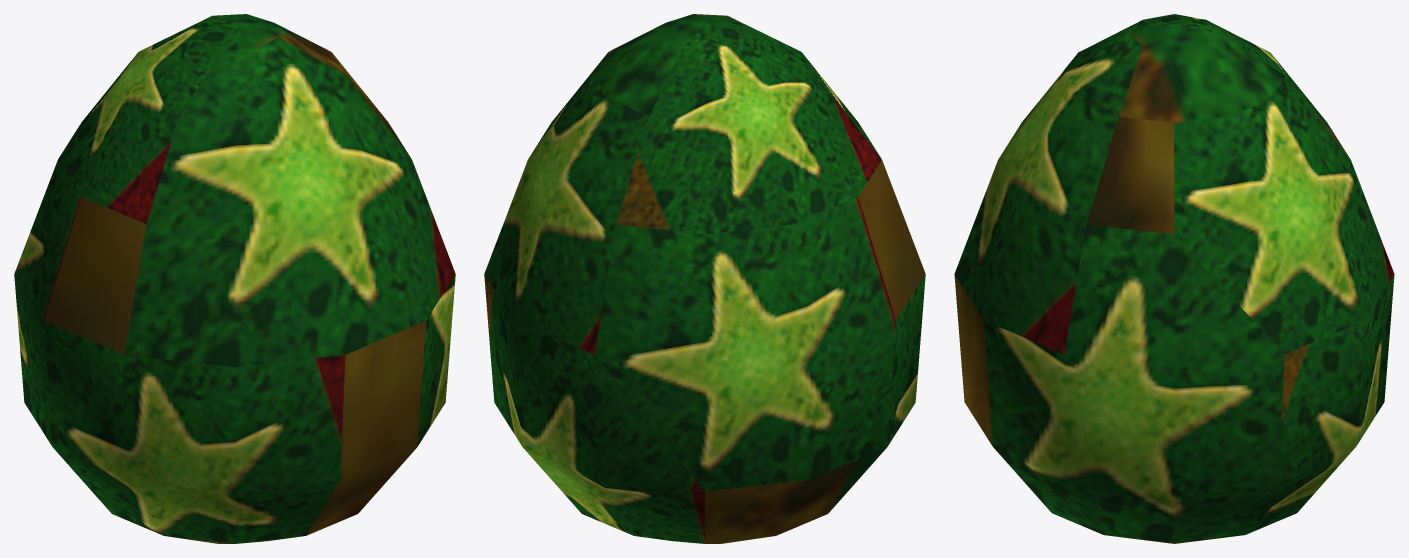
File: EggGreenStar.gltf
The picture shows the model from 3 angles, left to right: view 1: azimuth 30°, elevation 25°; view 2: azimuth 150°, elevation 25°; view 3: azimuth 270°, elevation 25°; orthographic projection.
Visible parts, largest first — view 1: EggGreenStarMesh; view 2: EggGreenStarMesh; view 3: EggGreenStarMesh.
Boxes of the visible parts, box(x1,y1,x2,y2) form: EggGreenStarMesh: box(14, 14, 455, 543); EggGreenStarMesh: box(484, 14, 925, 543); EggGreenStarMesh: box(954, 14, 1394, 543).
Bounding box in the file's own units: 0.7984 × 1 × 0.7984.
Materials: 1 (1 with a texture image).
